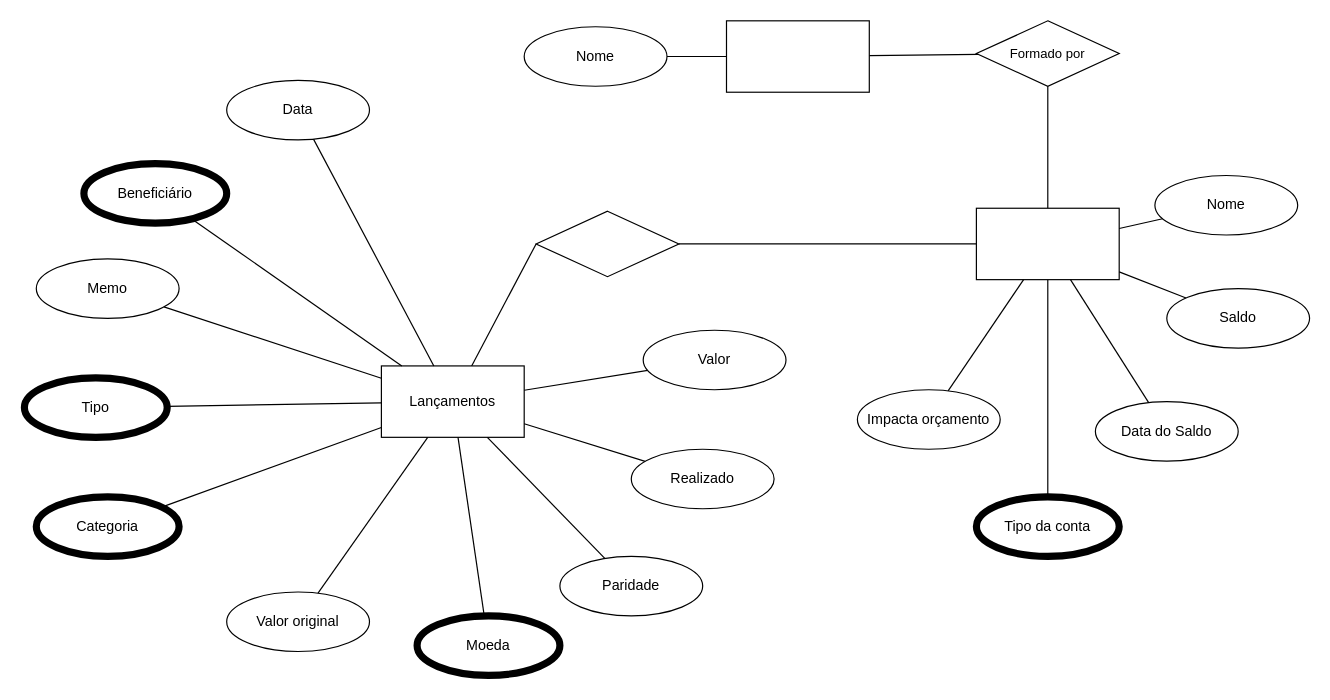
This 1330x700 diagram has some shape labels left out. Here are the shapes that lost their labels. From the top down, the centre of each, then its label:
At (x=797, y=56): "Orçamentos".
At (x=607, y=243): "Contabilizam".
At (x=1047, y=243): "Contas".
